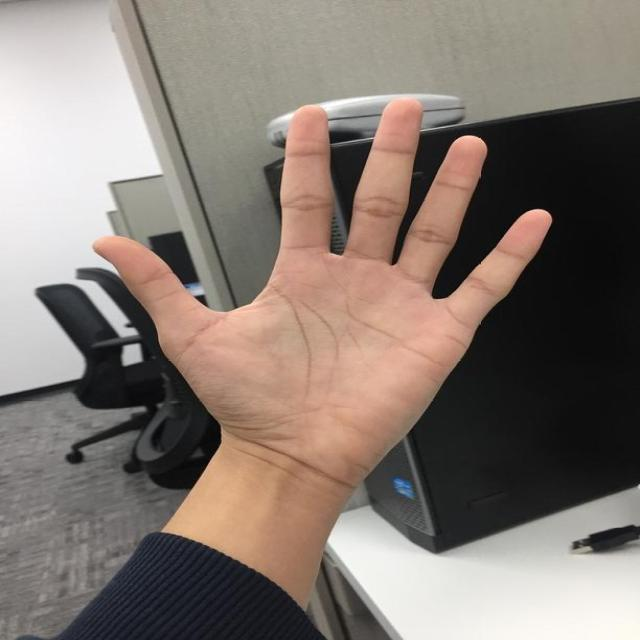hand: (93, 96, 557, 471)
